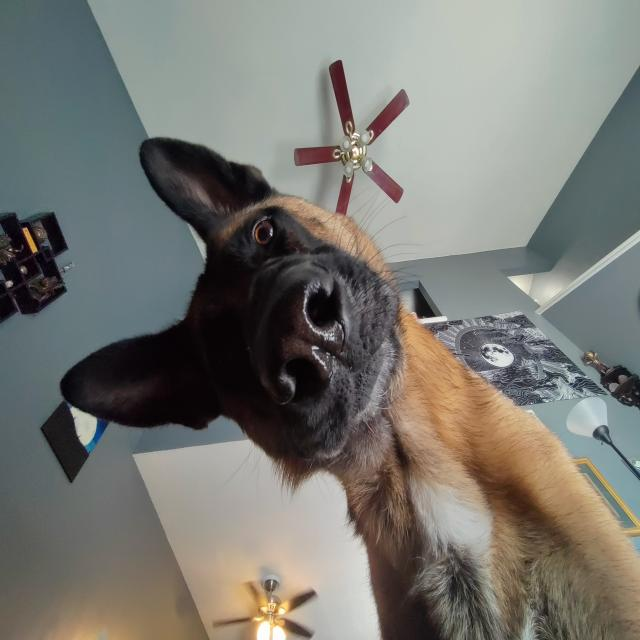GERMAN_SHEPHERD: (43, 119, 640, 640)
